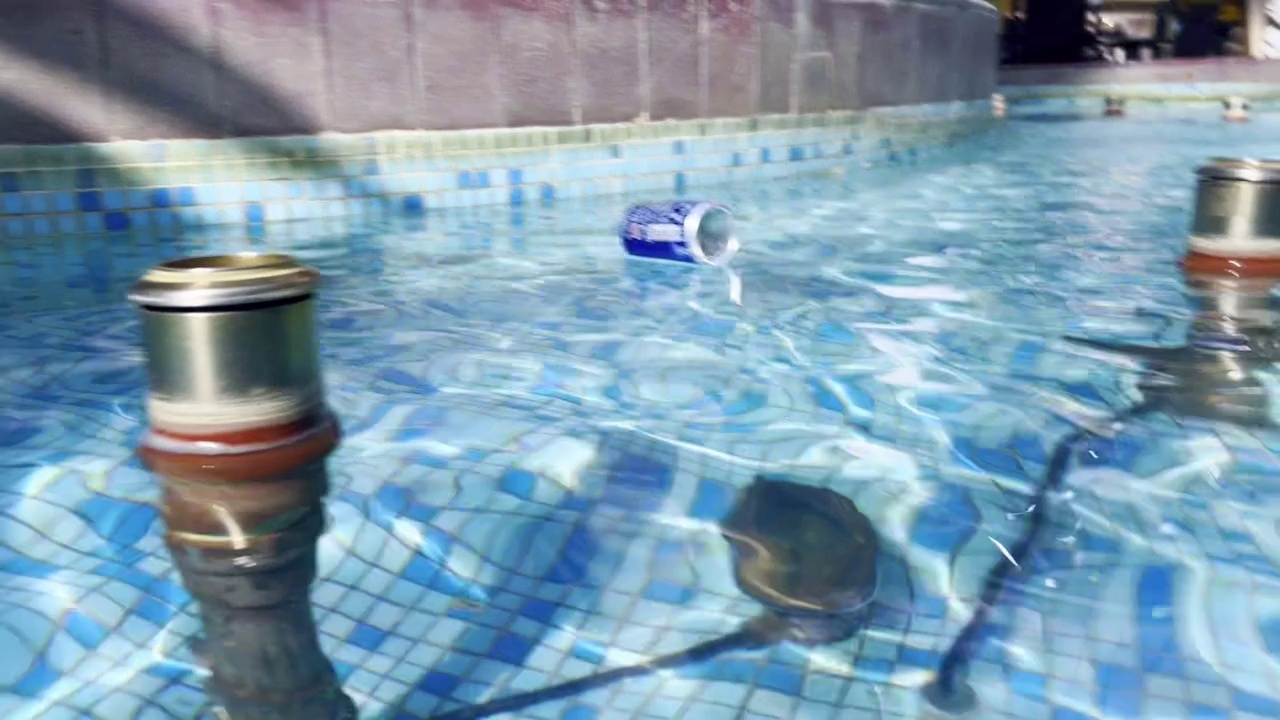debris: (615, 191, 740, 269)
